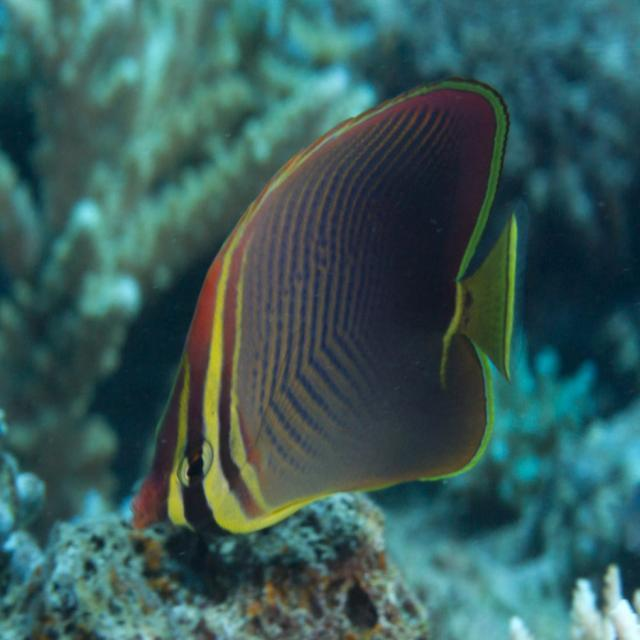ButterflyFish: (102, 61, 536, 580)
